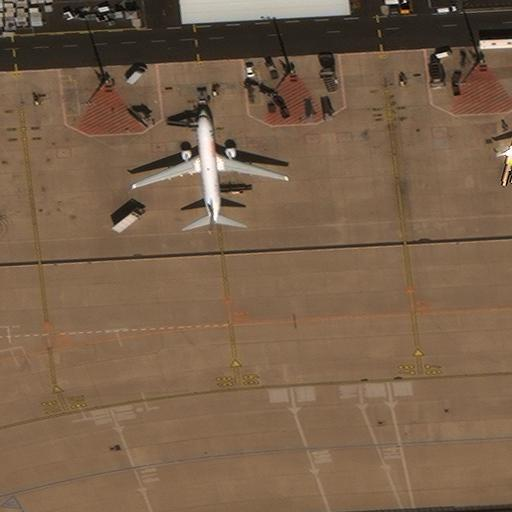Medium Civil Transport: (131, 109, 287, 226)
